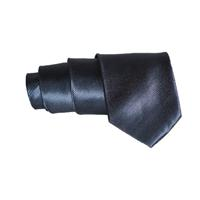tie: (26, 52, 182, 148)
